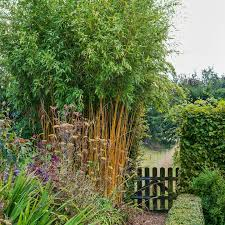bamboo: (1, 2, 183, 139), (74, 2, 134, 194)
